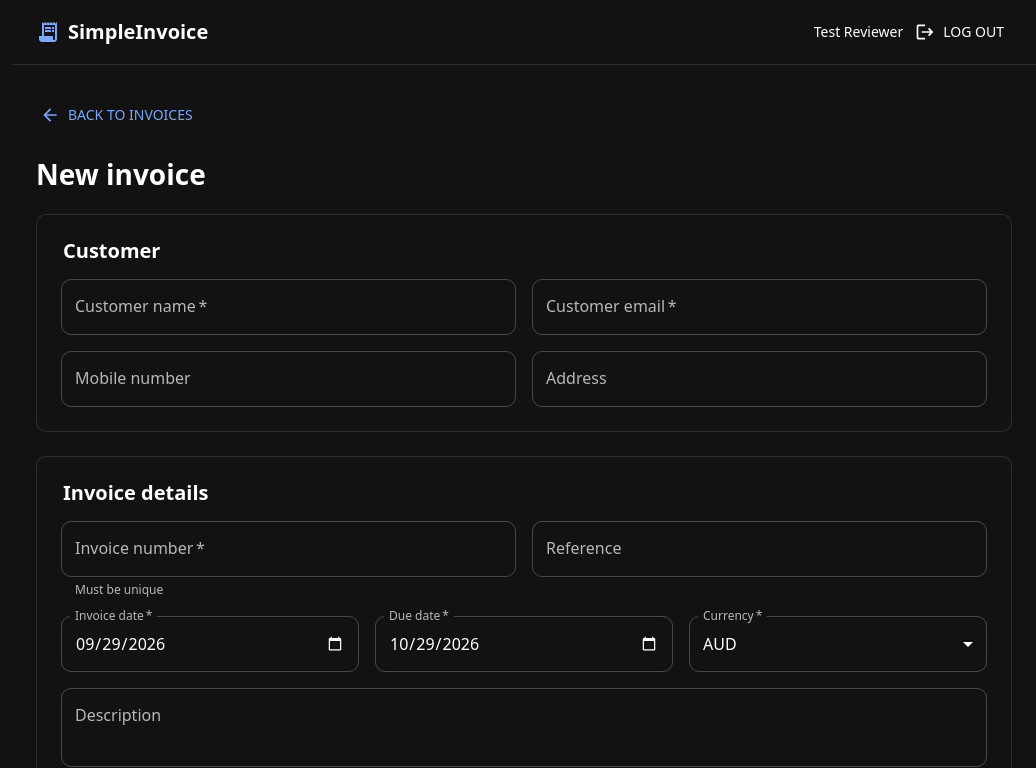
Test: CreateInvoicePage › validates required fields and rules before submitting
The image size is (1036, 768).
Check: the heading "New invoice" is shown, box x1=36 y1=154 x2=206 y2=192
Type "2000-01-01" into the date field labelled "Due date *".
click(524, 644); type("2000-01-01")  # box x1=375 y1=616 x2=673 y2=672
(page scrolled)
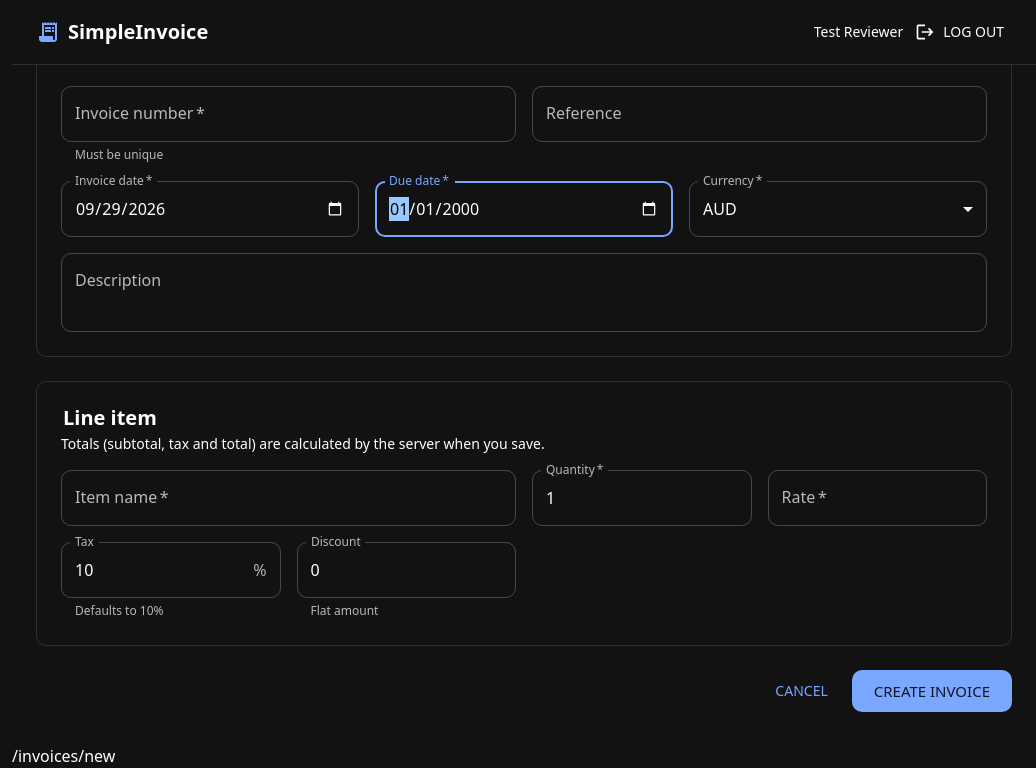
Replace the text in the field labelled "Quantity *" with "1.5" at (642, 498), box x1=532 y1=470 x2=752 y2=526
(page scrolled)
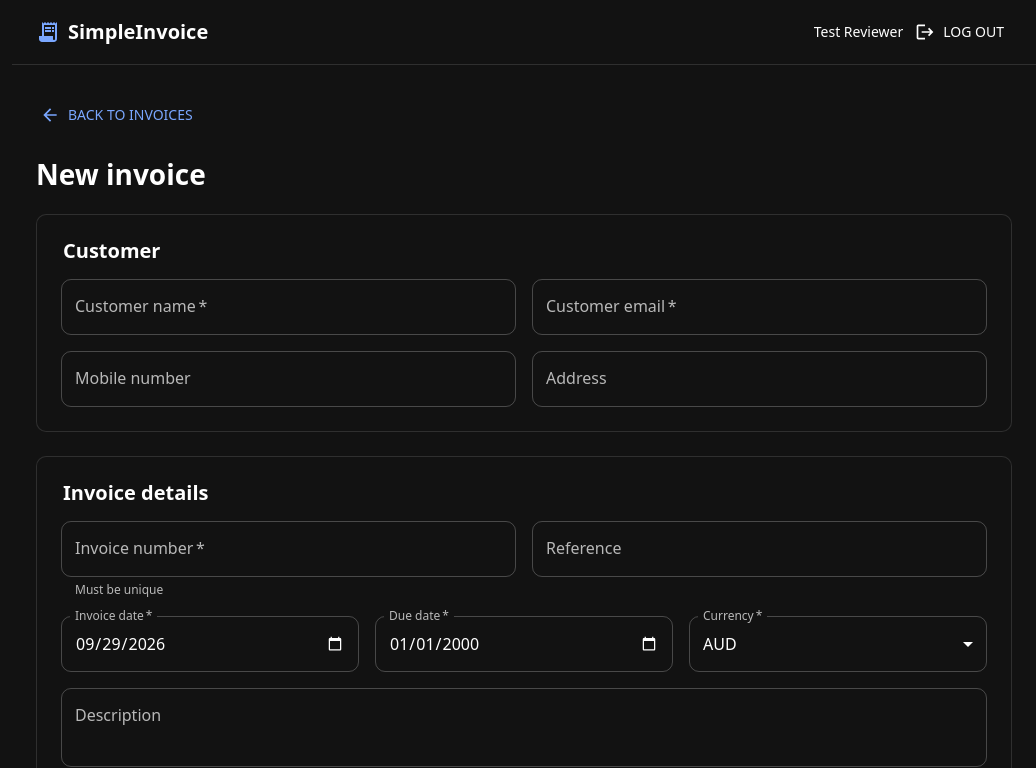
Type "nope" into the field labelled "Customer email *".
click(760, 307); type("nope")  # box x1=532 y1=279 x2=987 y2=335
(page scrolled)
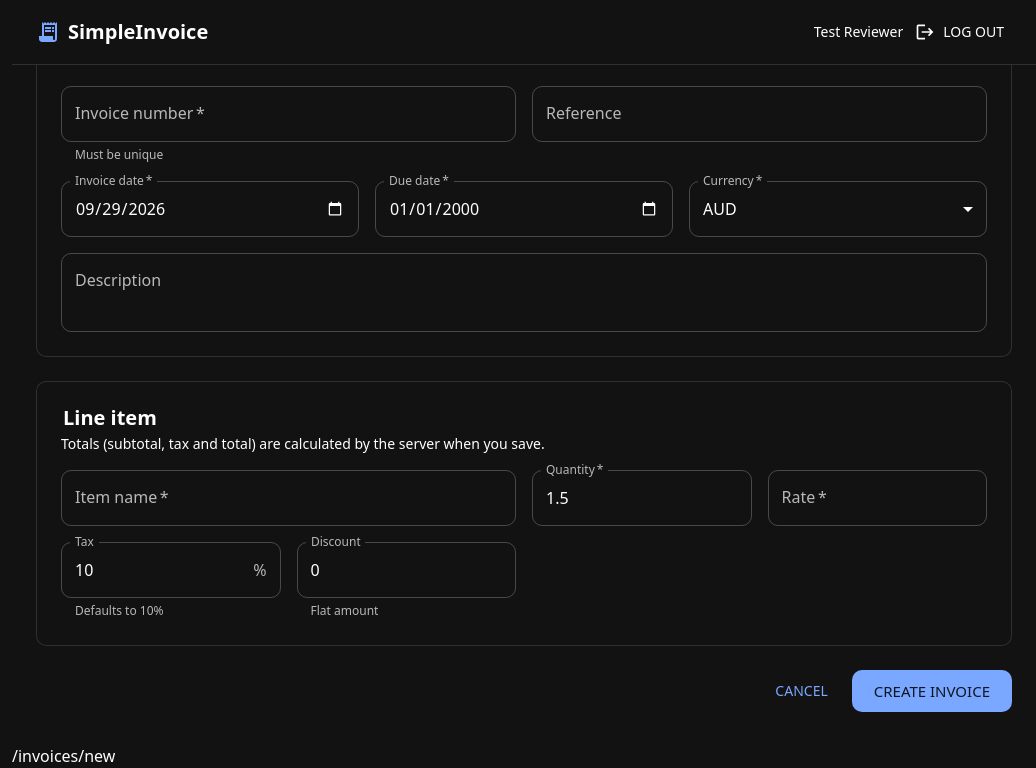
Click the button "Create invoice".
click(932, 691)  # box x1=852 y1=670 x2=1012 y2=712
(page scrolled)
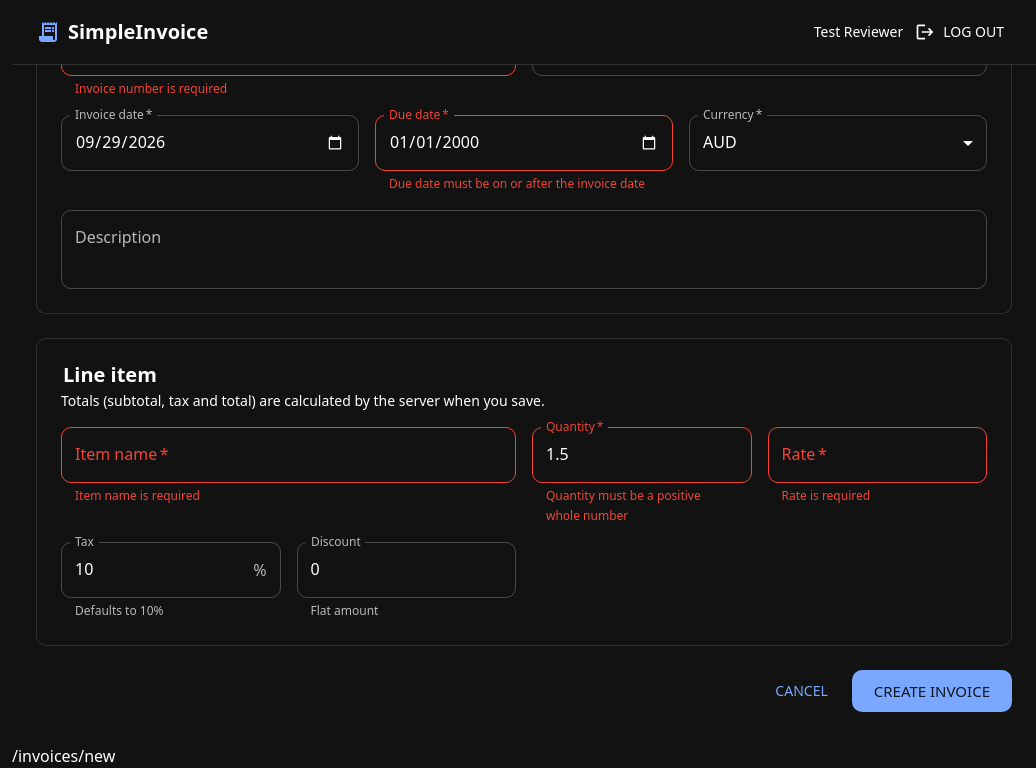
Check: the text "Invoice number is required" is shown, box x1=75 y1=80 x2=227 y2=97
Check: the text "Due date must be on or after the invoice date" is shown, box x1=389 y1=175 x2=645 y2=192
Check: the text "Item name is required" is shown, box x1=75 y1=487 x2=200 y2=504
